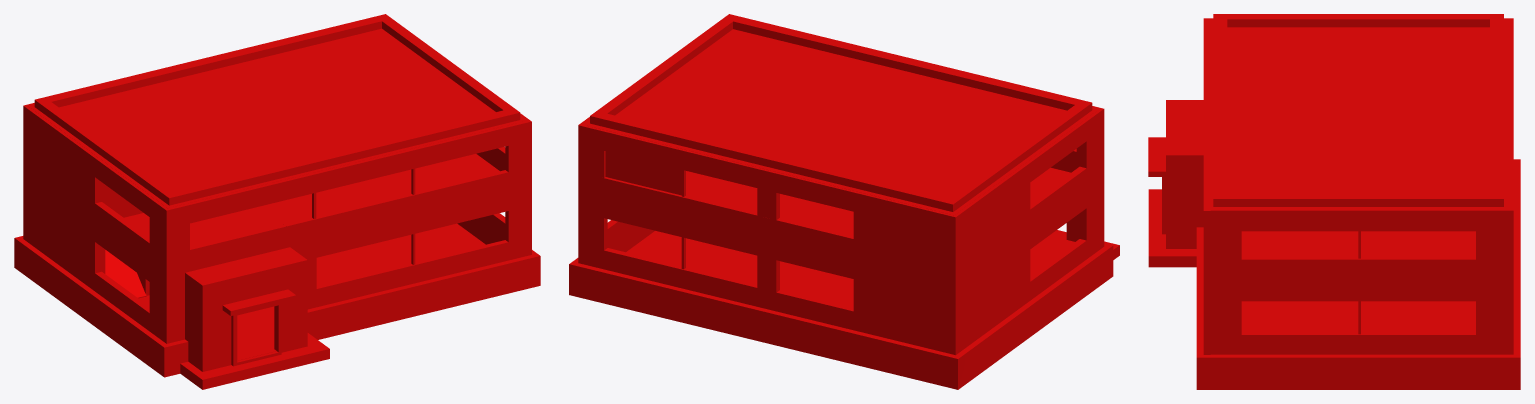
File: SM_Bld_Commercial_Small_01_Collision.fbx
3 views of the same model, side by side, from view 1: azimuth 30°, elevation 25°; view 2: azimuth 150°, elevation 25°; view 3: azimuth 270°, elevation 25° (orthographic). The views are drawn at different scales.
Visible parts, largest first — view 1: SM_Bld_Commercial_Small_01_Collision; view 2: SM_Bld_Commercial_Small_01_Collision; view 3: SM_Bld_Commercial_Small_01_Collision.
Part boxes in pixels (x1=…): SM_Bld_Commercial_Small_01_Collision: x1=14, y1=14, x2=540, y2=389; SM_Bld_Commercial_Small_01_Collision: x1=569, y1=14, x2=1119, y2=389; SM_Bld_Commercial_Small_01_Collision: x1=1148, y1=14, x2=1520, y2=389.
Size of the model in its own units: 1853 by 813 by 1471.
